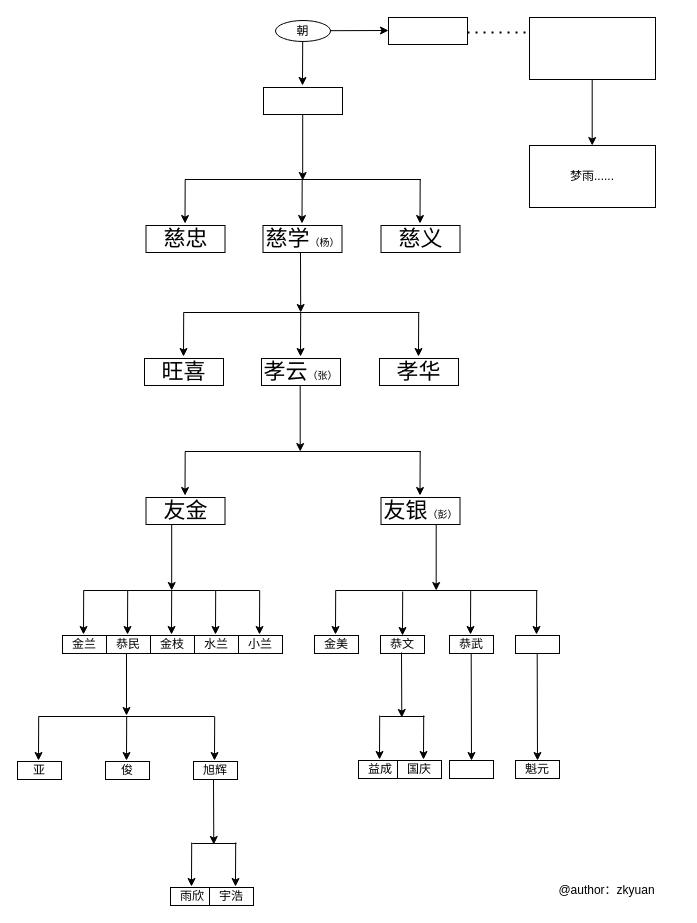
Image size: 697x923. Some labels were removed from this diagram. The box of each missing label's shape, as (x1, y1, x2, y2) in pixels:
冬霞: (448, 760, 494, 778)
凡龙: (514, 634, 560, 654)
响音、金恭、恭银、恭兵、梅香、凤香、丙香: (528, 16, 656, 80)
良X: (388, 16, 468, 44)
良云 （叶）: (262, 86, 342, 114)
